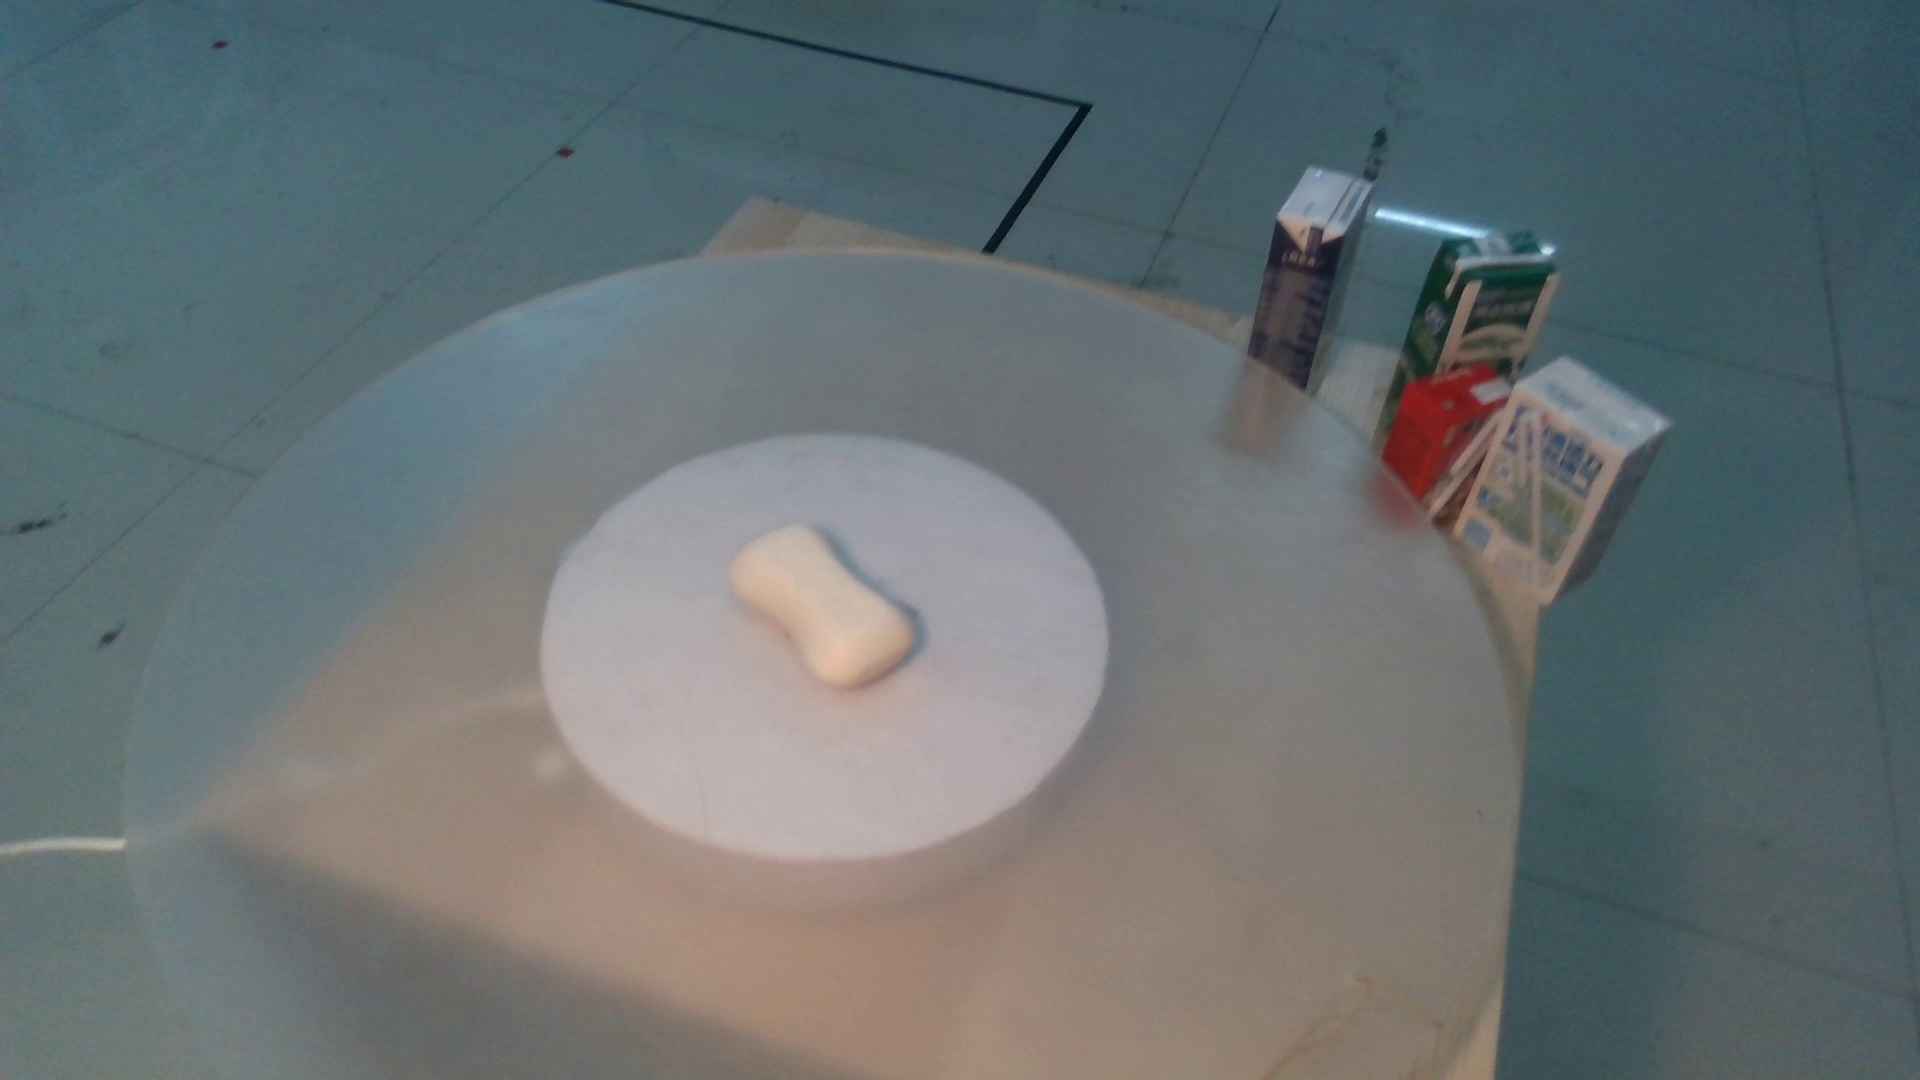CA003_1: (694, 505, 944, 702)
